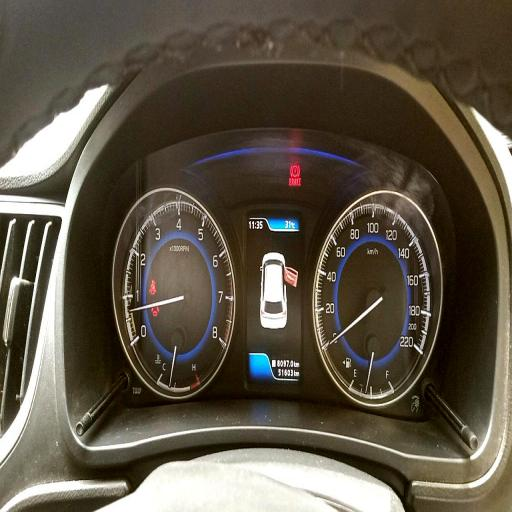belt: (150, 279, 156, 295)
brake_system_fault: (290, 164, 300, 178)
tachometer: (124, 200, 235, 395)
